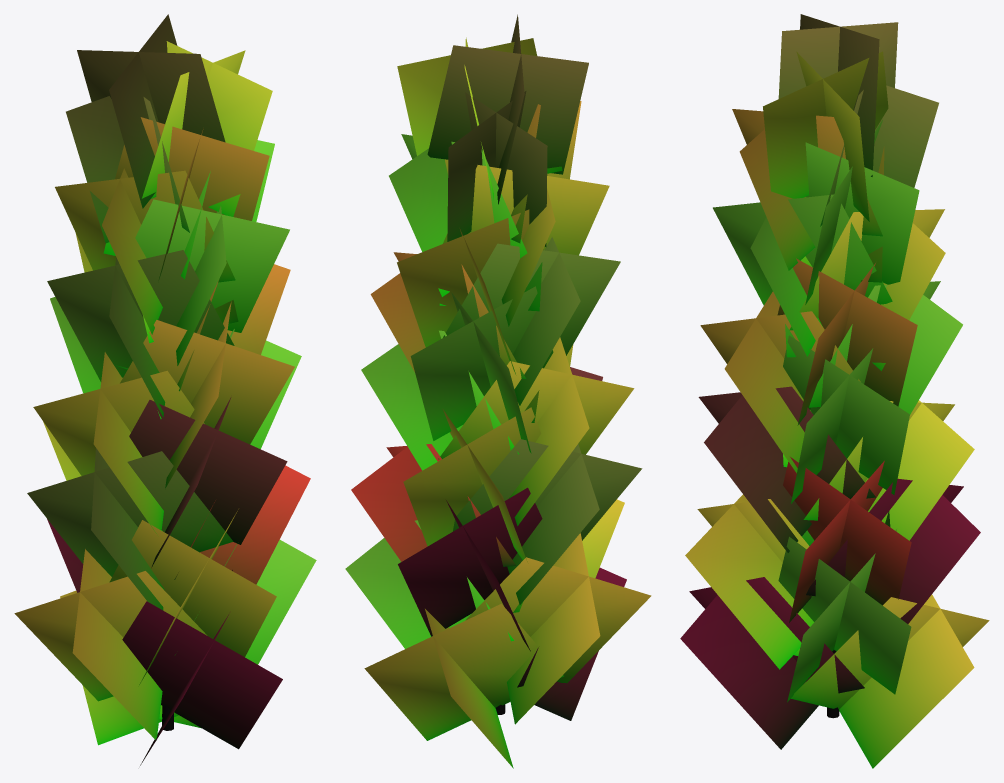
Rendered from Tree_4.fbx.
The picture shows the model from 3 angles, left to right: view 1: azimuth 30°, elevation 25°; view 2: azimuth 150°, elevation 25°; view 3: azimuth 270°, elevation 25°; orthographic projection.
Parts seen in each view (by area): view 1: Tree_4; view 2: Tree_4; view 3: Tree_4.
Part boxes in pixels (x1,y1,x2,y2): Tree_4: [14, 14, 316, 765]; Tree_4: [345, 14, 651, 768]; Tree_4: [680, 14, 989, 768].
Bounding box in the file's own units: 646 × 1695 × 665.
